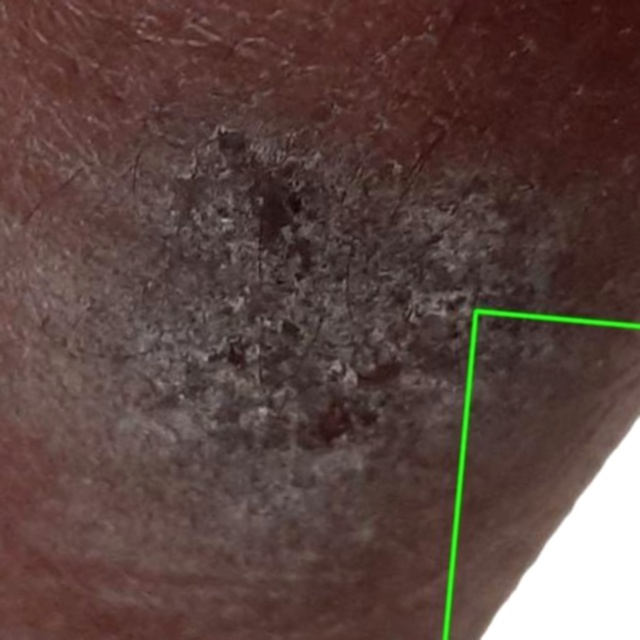Contact Dermatitis: (445, 311, 639, 639)
